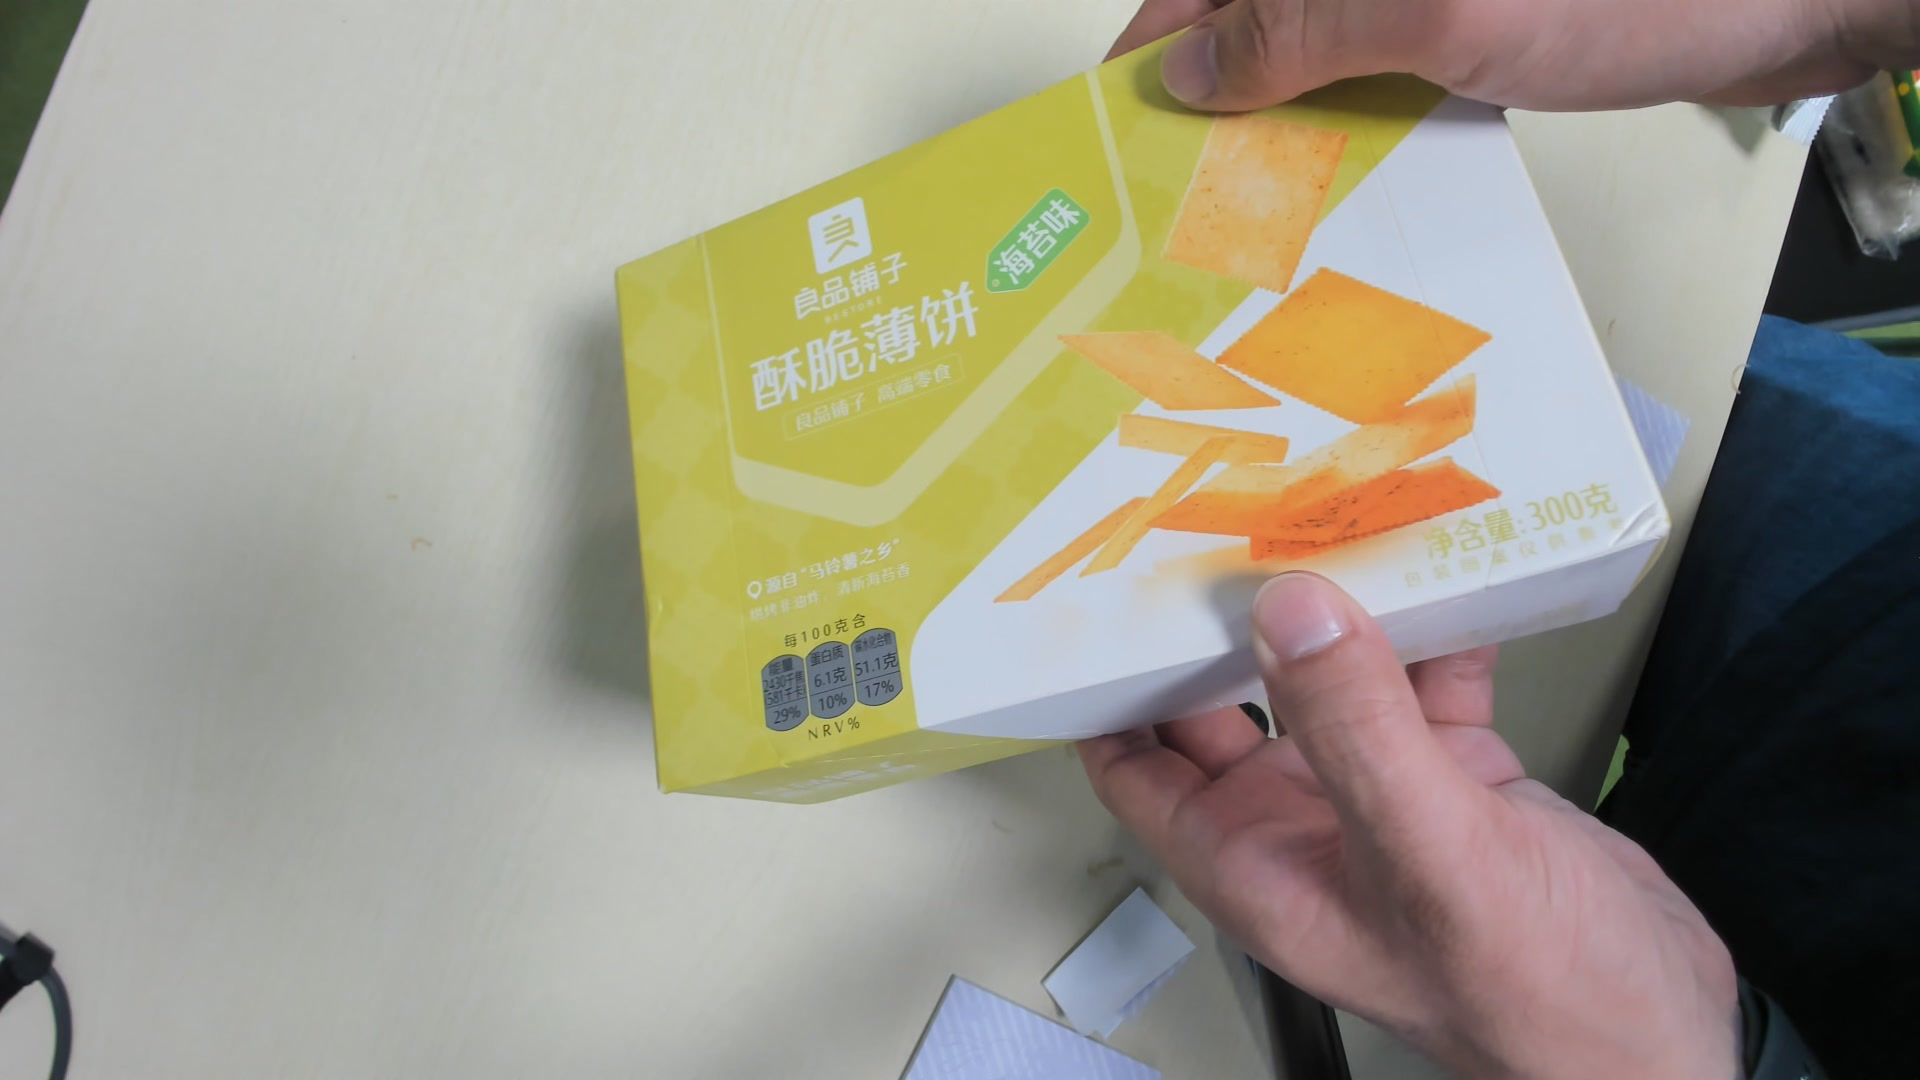BiscuitsCrackersCookies_300-399g_Halal_NonHealthy: (596, 29, 1667, 796)
